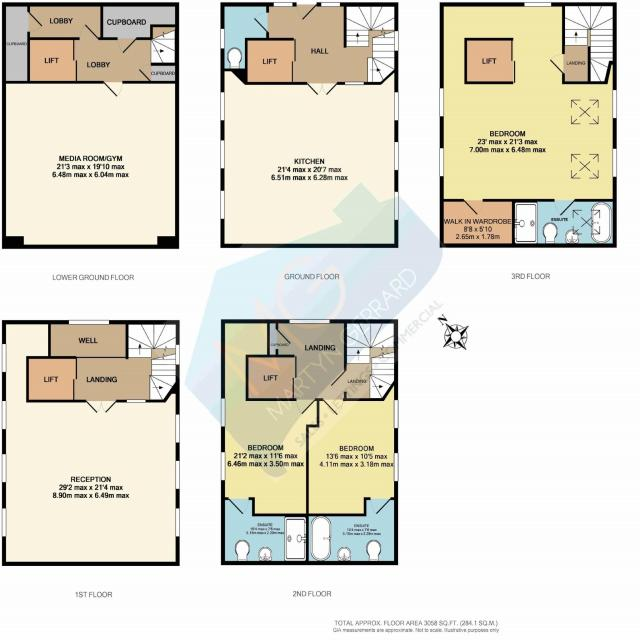DOOR: (368, 496, 391, 516), (321, 398, 345, 417), (293, 398, 316, 417), (225, 498, 247, 517), (296, 2, 317, 21), (548, 53, 565, 75), (554, 199, 575, 216), (27, 11, 43, 33), (78, 24, 100, 40), (117, 37, 137, 54), (253, 12, 269, 33), (463, 199, 483, 215), (104, 81, 123, 97)
DOUBLE DOOR: (83, 399, 118, 415), (306, 81, 338, 97)
ROOM: (2, 320, 180, 566), (220, 68, 399, 248), (1, 80, 180, 249), (221, 319, 320, 517), (306, 380, 398, 516)
WINDOW: (219, 448, 227, 483), (219, 188, 227, 221), (288, 318, 332, 324), (392, 450, 400, 482), (69, 319, 110, 325), (393, 188, 400, 222), (174, 505, 181, 539), (219, 139, 226, 170), (393, 139, 399, 172), (394, 90, 400, 122), (1, 343, 7, 374), (1, 507, 7, 538), (439, 88, 445, 118), (612, 89, 618, 119), (612, 148, 618, 178), (1, 400, 7, 430), (1, 453, 7, 483), (221, 397, 226, 430), (175, 412, 180, 444), (175, 459, 180, 491), (220, 90, 225, 121), (394, 399, 399, 430), (320, 1, 342, 8), (273, 1, 294, 8), (440, 148, 445, 177), (220, 27, 226, 51), (524, 2, 552, 7), (394, 29, 399, 52), (344, 81, 365, 86)
